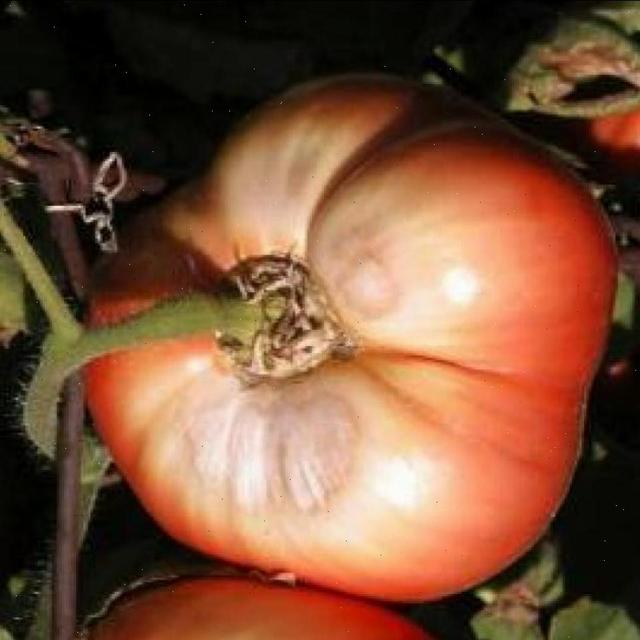Sunscald Fruit: (90, 94, 316, 344)
